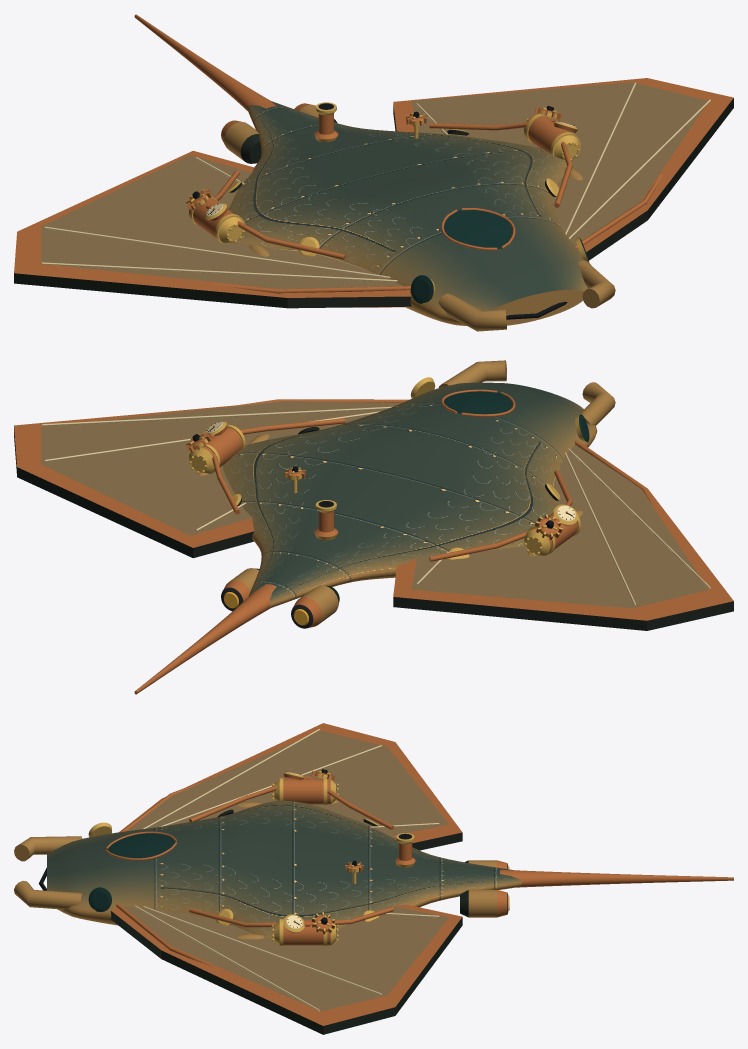
3 views of the same model, one above another, from view 1: azimuth 30°, elevation 25°; view 2: azimuth 150°, elevation 25°; view 3: azimuth 270°, elevation 25° (orthographic). The views are drawn at different scales.
Visible parts, largest first — view 1: manta_ray_hull; view 2: manta_ray_hull; view 3: manta_ray_hull.
Boxes of the visible parts, <box> form: manta_ray_hull: <box>14,14,733,331</box>; manta_ray_hull: <box>14,360,733,694</box>; manta_ray_hull: <box>14,723,733,1034</box>.
Bounding box in the file's own units: 255 × 30.61 × 256.
1 material, 1 textured.
